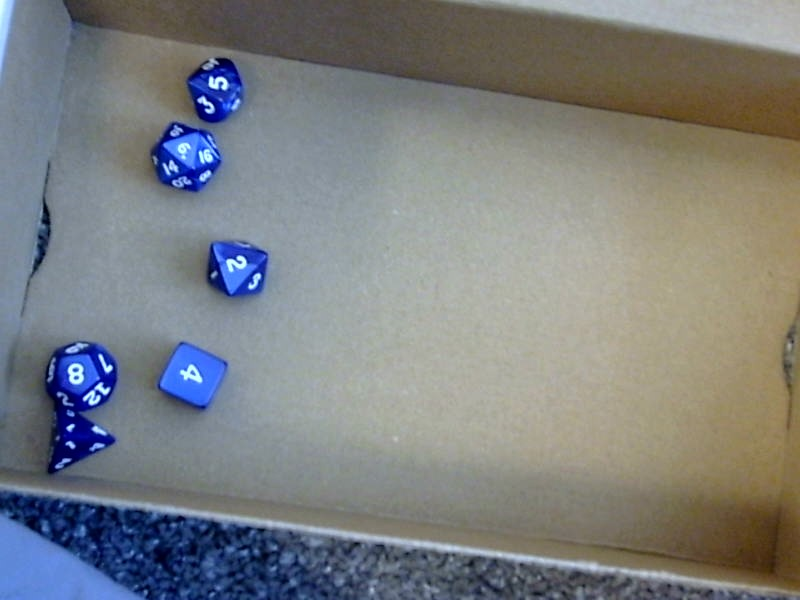d10 5: (181, 52, 246, 123)
d12 8: (40, 337, 119, 409)
d20 6: (147, 120, 220, 193)
d4 1: (42, 406, 121, 477)
d6 4: (154, 339, 228, 411)
d8 2: (200, 235, 268, 298)
